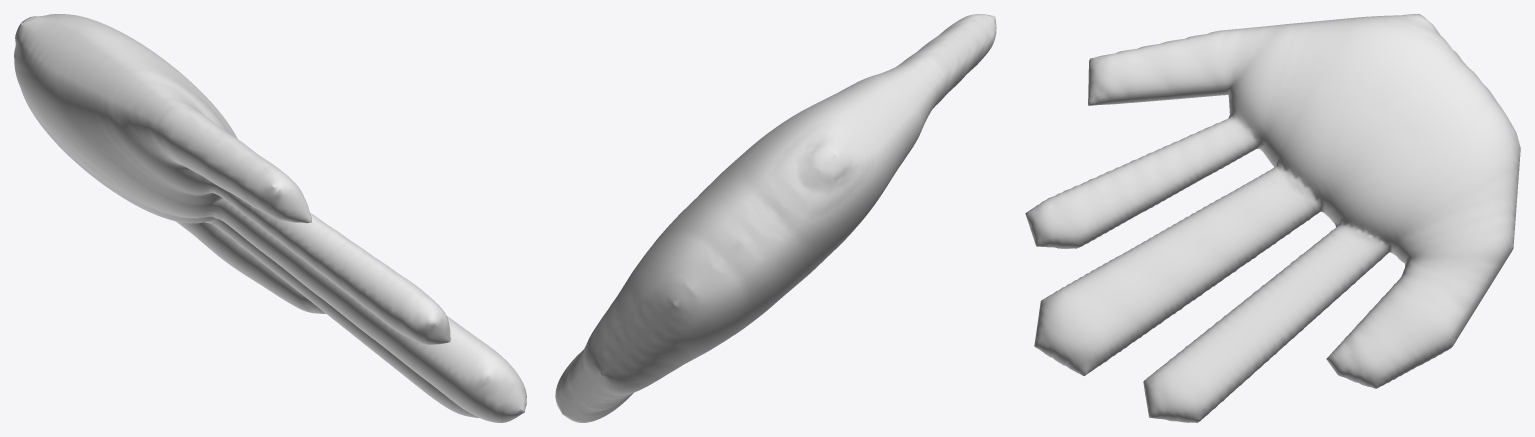
File: GodHand.fbx
3 renders of one model, left to right at view 1: azimuth 30°, elevation 25°; view 2: azimuth 150°, elevation 25°; view 3: azimuth 270°, elevation 25°, orthographic. The views are drawn at different scales.
Visible parts, largest first — view 1: root; view 2: root; view 3: root.
Boxes of the visible parts, x1,y1,x2,y2 form: root: (14, 14, 526, 422); root: (555, 14, 996, 422); root: (1025, 14, 1520, 422).
Bounding box in the file's own units: 0.2995 × 0.3181 × 0.4825.
Materials: 1 (1 with a texture image).
